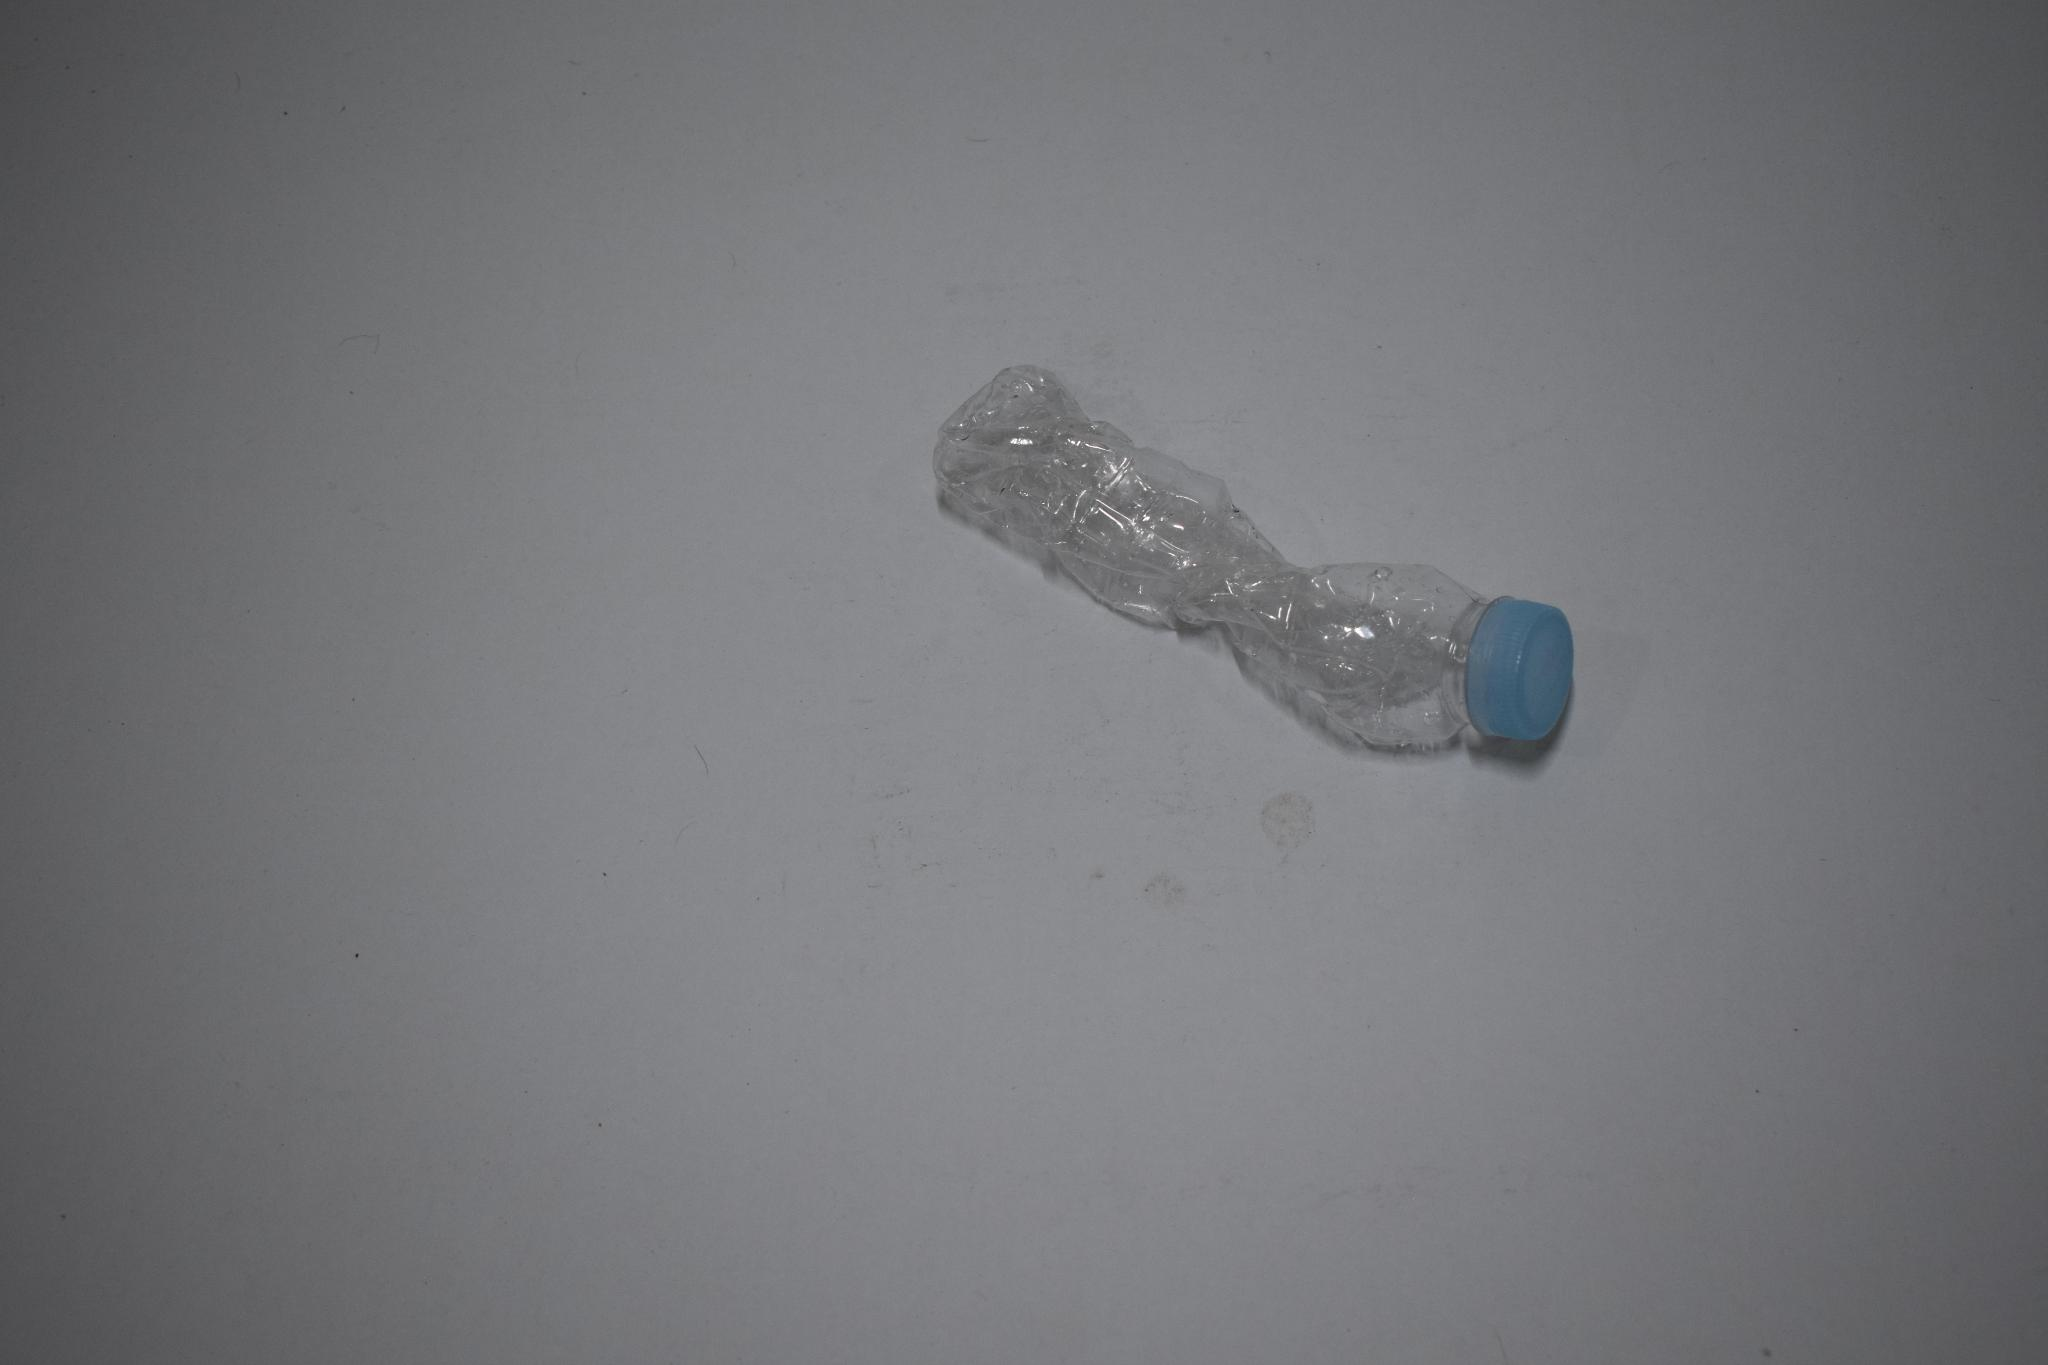bottle: (929, 358, 1577, 768)
